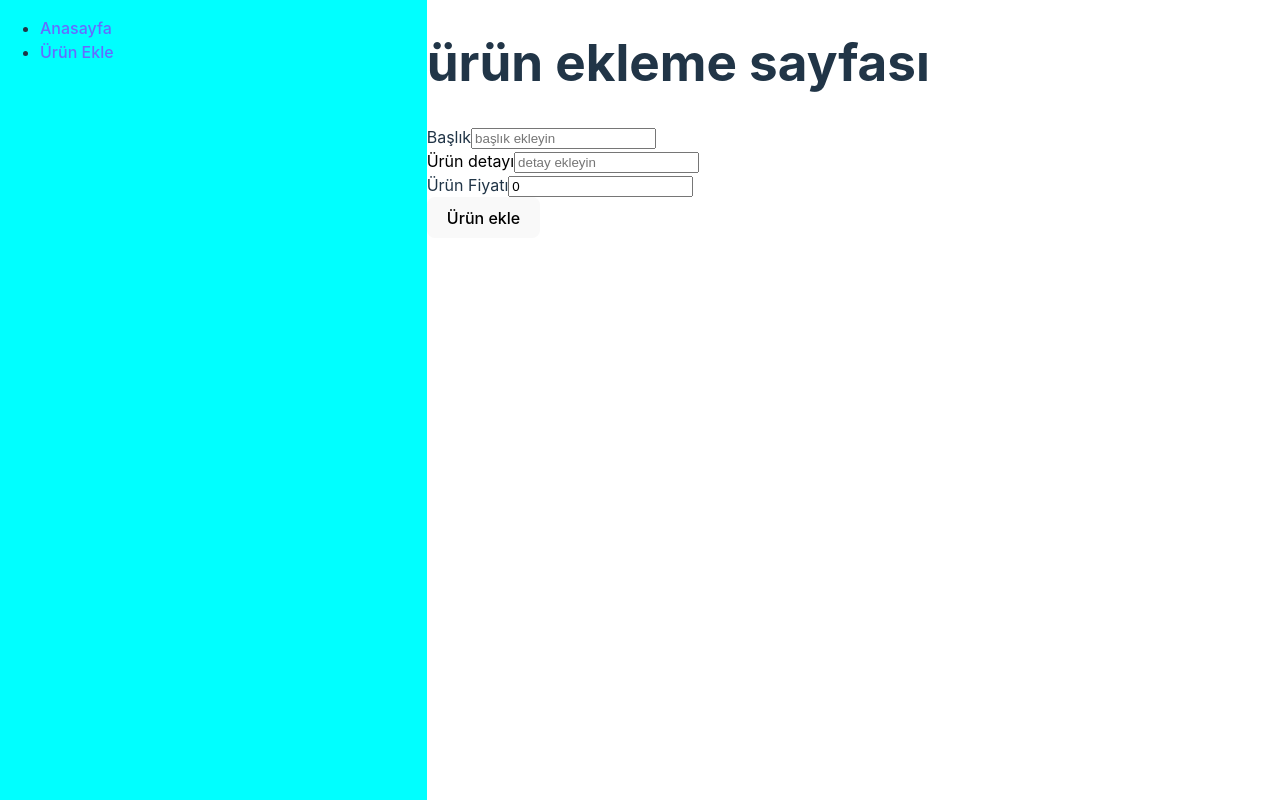
Test case: ProductAdd Component › should disable the submit button when there are validation errors
Type "Invalid123" into the field named "title".
click(564, 139); type("Invalid123")  # box 471,128 -> 656,149
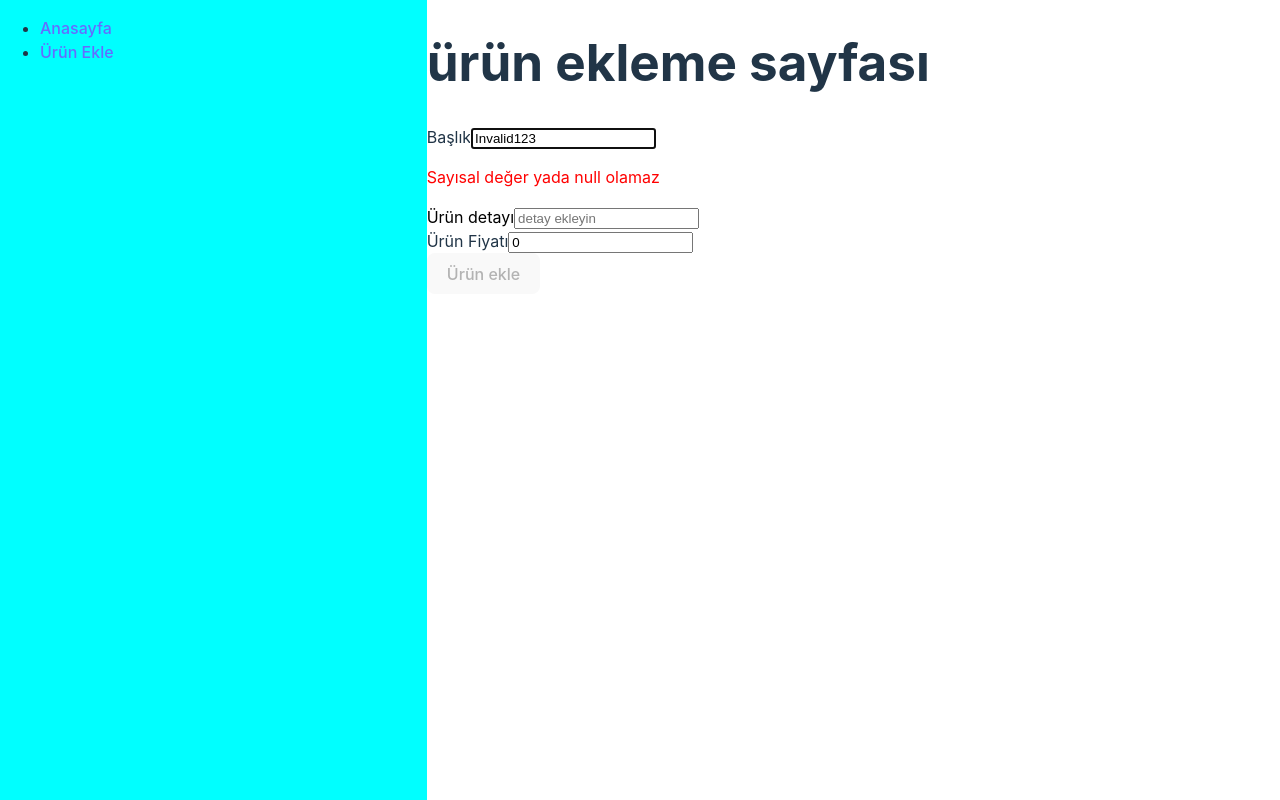
Now the button "Ürün ekle" is disabled, box 427,253 -> 541,294
